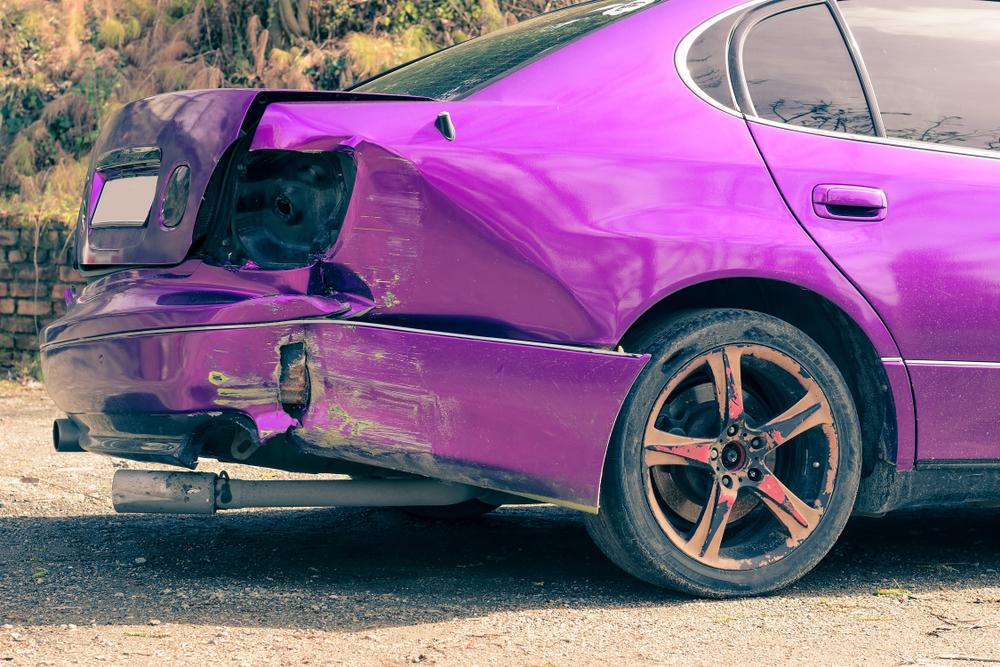crack: (273, 340, 314, 431)
dent: (331, 141, 607, 341), (179, 296, 324, 441)
scratch: (296, 321, 435, 460)
